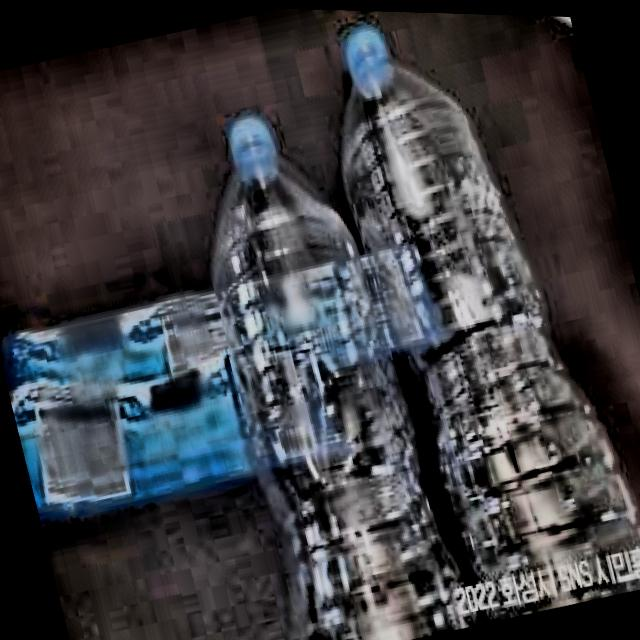Bottles: (289, 7, 640, 634), (147, 57, 472, 640)
